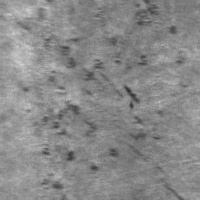rolled-in_scale: (31, 2, 159, 194), (129, 2, 172, 46)
